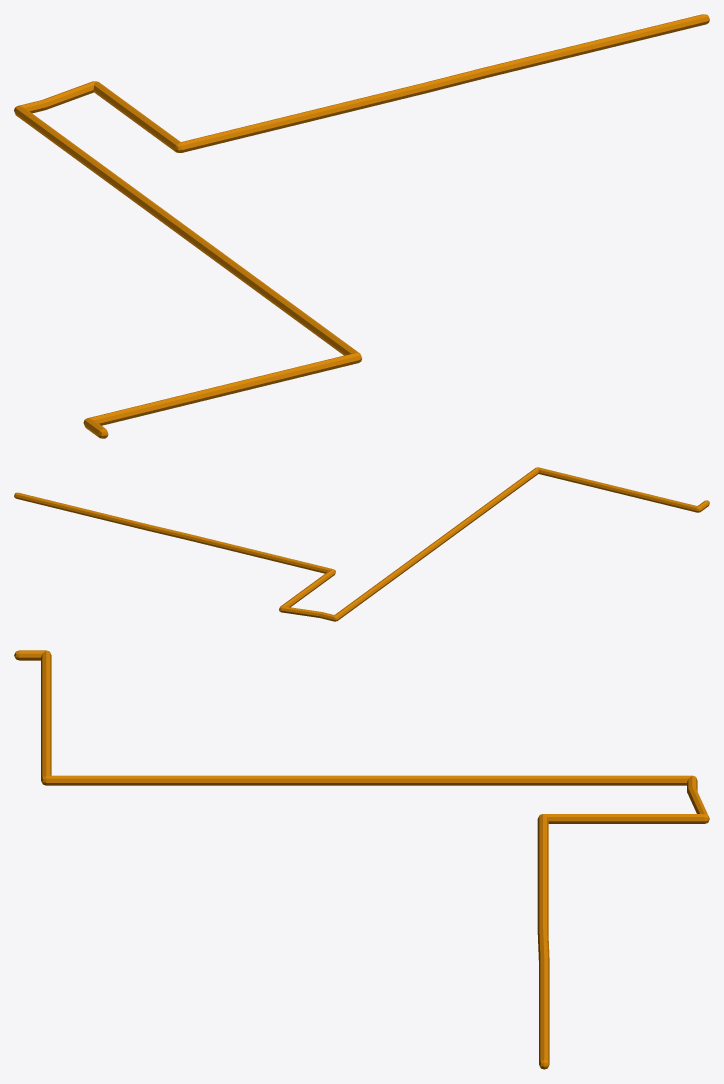
3 renders of one model, top to bottom at view 1: azimuth 30°, elevation 25°; view 2: azimuth 150°, elevation 25°; view 3: azimuth 270°, elevation 25°, orthographic. The views are drawn at different scales.
Size of the model in its own units: 1818 by 20 by 1293.
